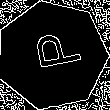P_W: (23, 32, 81, 78)
